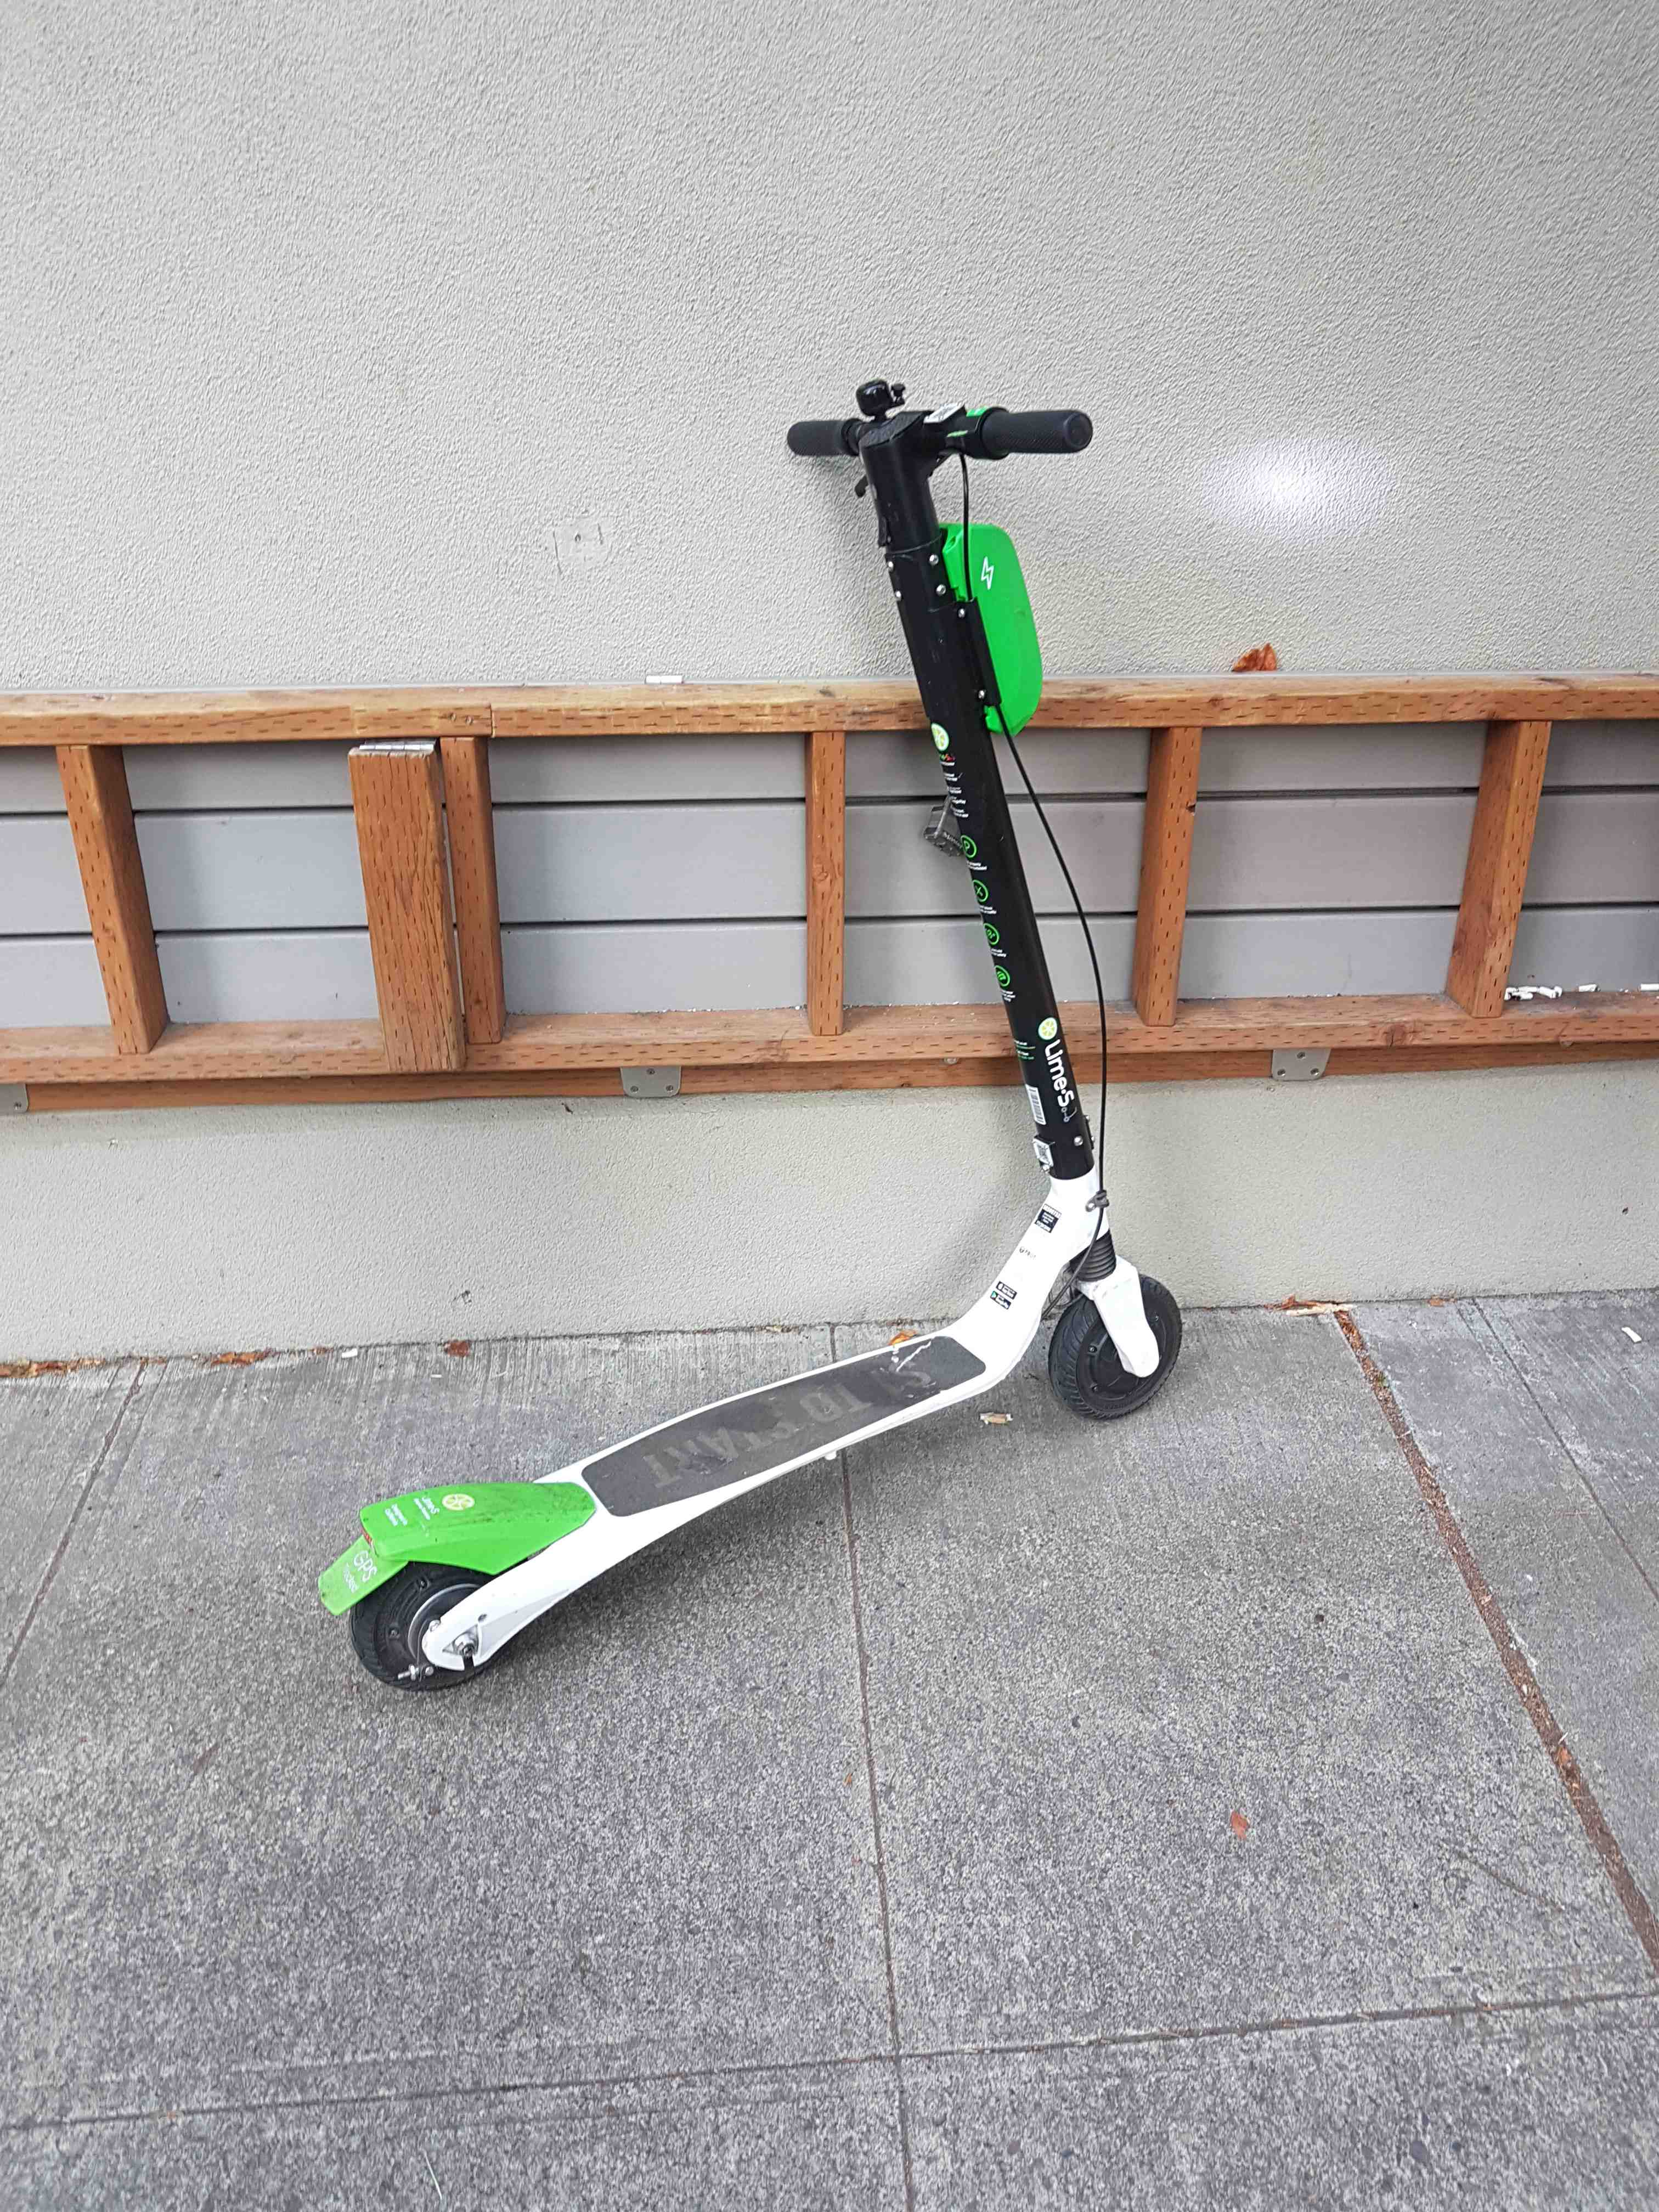scooter: (284, 331, 1239, 1728)
